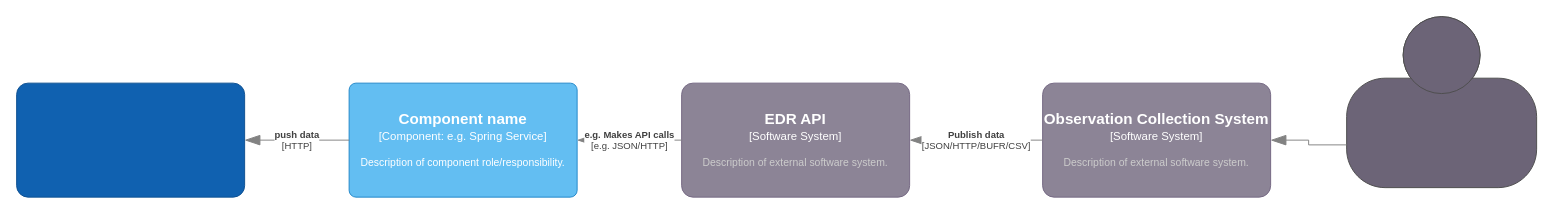
Image size: 1553x214. Some labels were removed from this diagram. The shapes that lost their labels are listed below. From the top down, each one's box as (x1, y1, x2, y2) in pixels, then its label:
(1346, 16, 1537, 188): Data producer [Person] Non known E-SOH
(16, 82, 245, 197): E-SOH [Software System] Description of software system.
